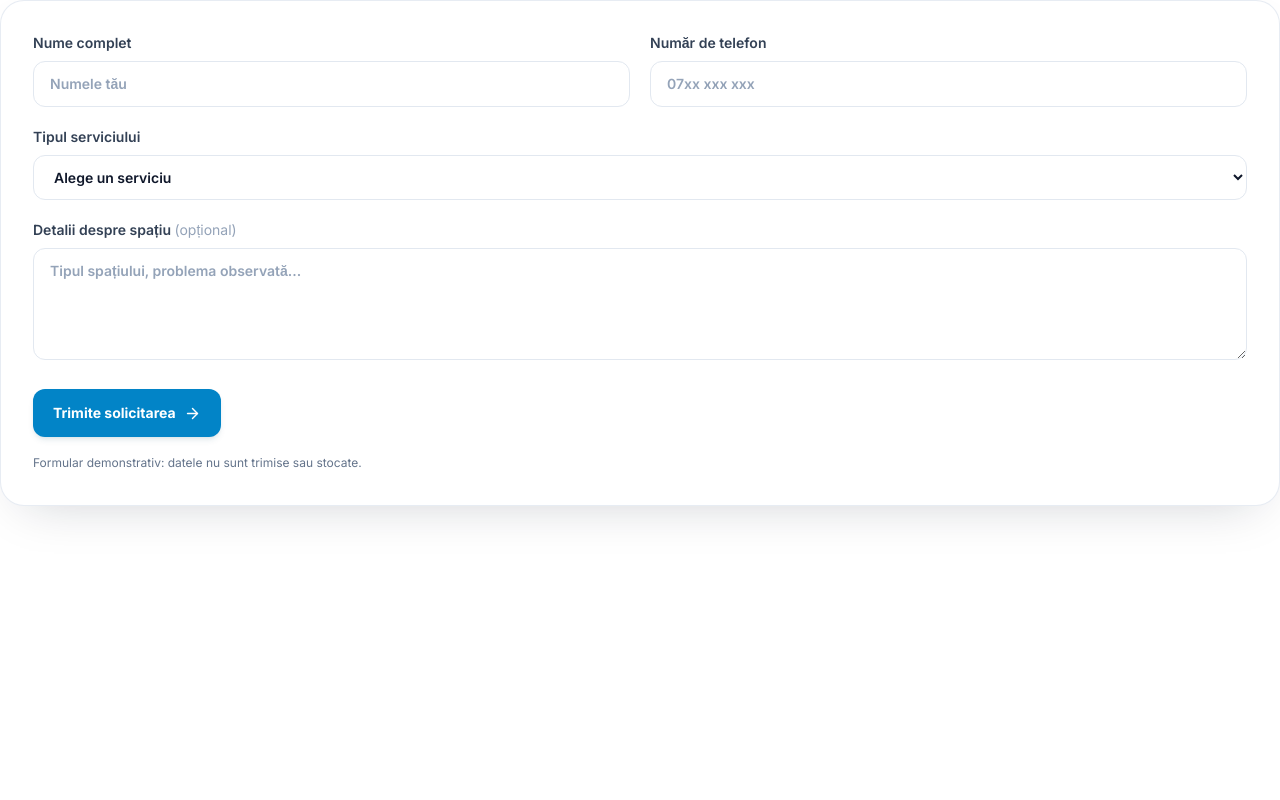
Scenario: ContactForm › shows validation errors when submitted empty
Click the button "Trimite solicitarea" at (127, 413), box [33,389,221,437]
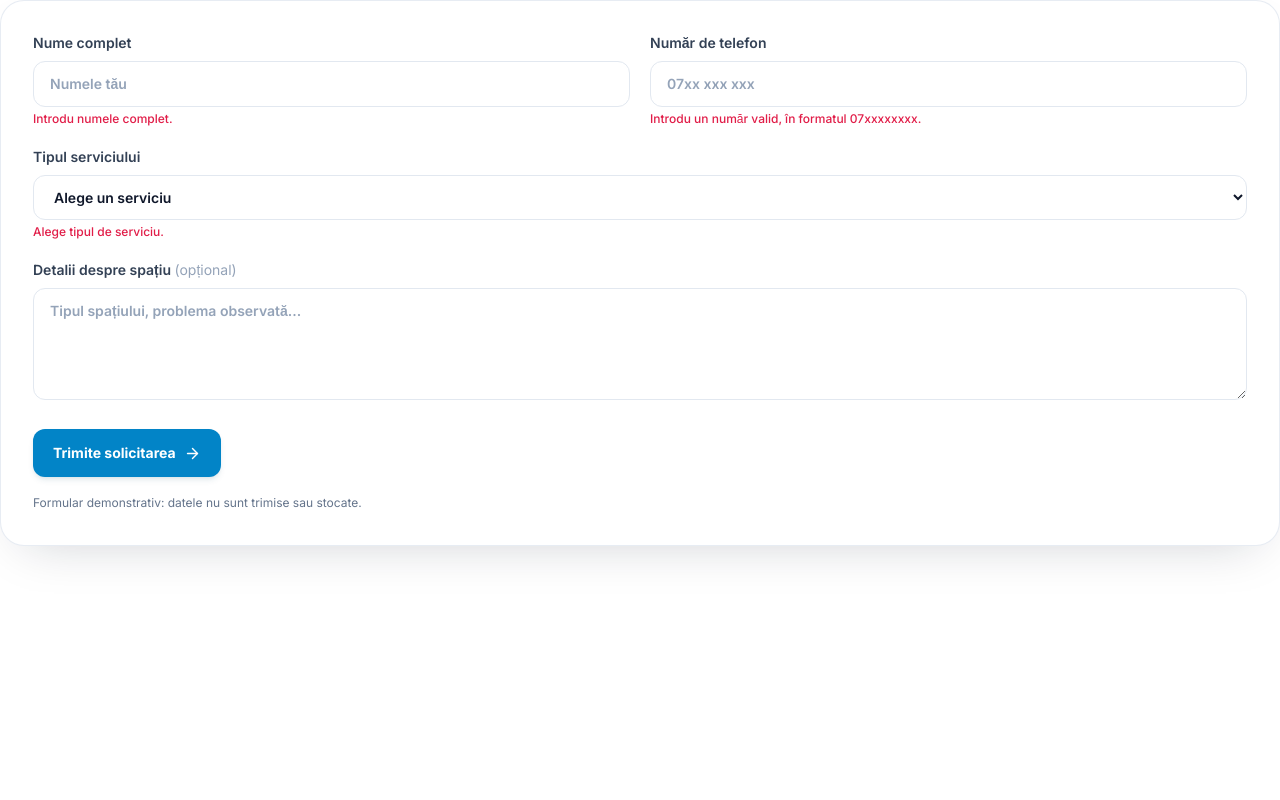
Expected: the text "Introdu numele complet." is shown, [33,111,172,126]
Expected: the text "Introdu un număr valid, în formatul 07xxxxxxxx." is shown, [650,111,921,126]
Expected: the text "Alege tipul de serviciu." is shown, [33,224,164,239]
